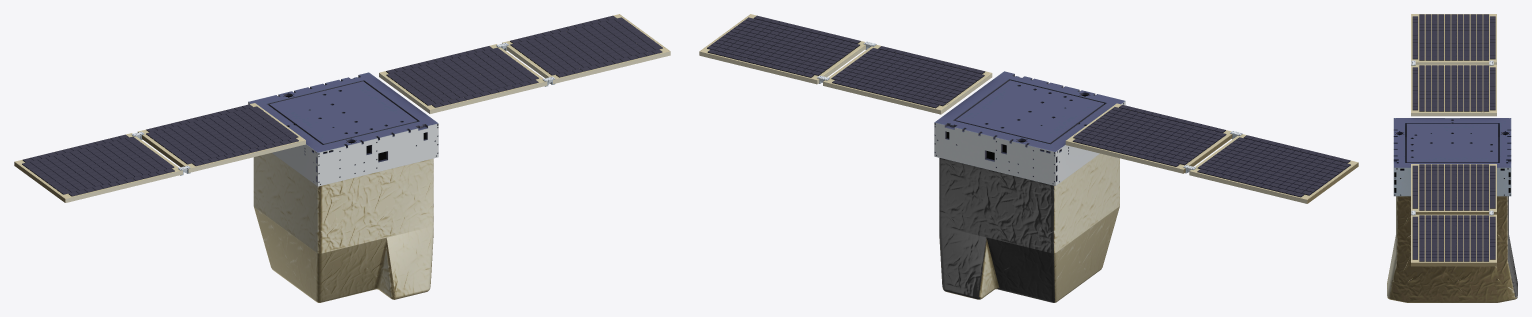
The model's file is base_satellite_an.glb.
3 views of the same model, side by side, from view 1: azimuth 30°, elevation 25°; view 2: azimuth 150°, elevation 25°; view 3: azimuth 270°, elevation 25° (orthographic). The views are drawn at different scales.
Parts seen in each view (by area): view 1: Cube.033; view 2: Cube.033; view 3: Cube.033.
Part boxes in pixels (<box>): Cube.033: <box>14,14,670,302</box>; Cube.033: <box>699,14,1358,302</box>; Cube.033: <box>1387,14,1517,302</box>.
Bounding box in the file's own units: 0.9614 × 0.2573 × 0.2134.
Materials: 1 (1 with a texture image).
